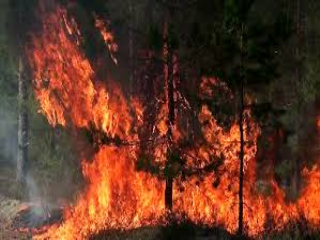fire: (26, 15, 249, 143), (56, 139, 317, 236)
